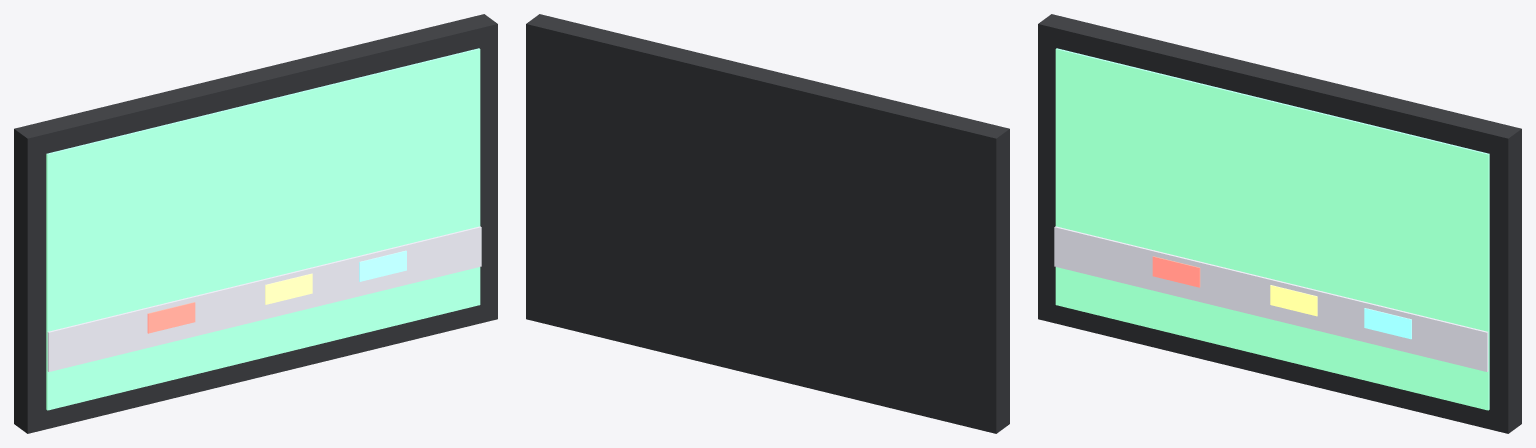
The model's file is wall_tv.glb.
3 views of the same model, side by side, from view 1: azimuth 30°, elevation 25°; view 2: azimuth 150°, elevation 25°; view 3: azimuth 330°, elevation 25° (orthographic).
Parts seen in each view (by area): view 1: wall_tv; view 2: wall_tv; view 3: wall_tv.
Boxes of the visible parts, x1,y1,x2,y2 form: wall_tv: (14, 14, 497, 433); wall_tv: (526, 14, 1009, 433); wall_tv: (1038, 14, 1521, 433).
Bounding box in the file's own units: 1 × 0.6 × 0.061.
